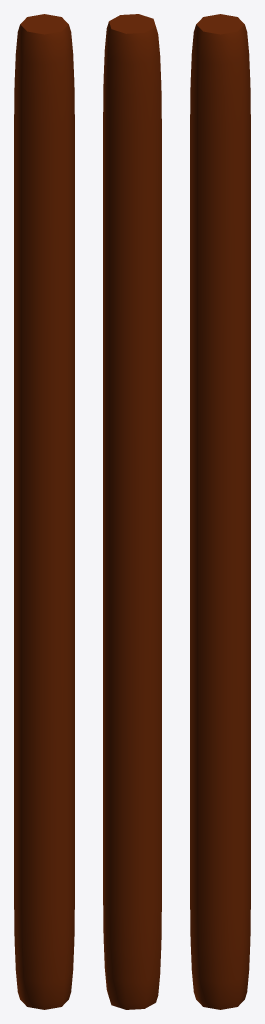
Rendered from bou.fbx.
3 renders of one model, left to right at view 1: azimuth 90°, elevation 25°; view 2: azimuth 210°, elevation 25°; view 3: azimuth 270°, elevation 25°, orthographic.
Visible parts, largest first — view 1: obj2; view 2: obj2; view 3: obj2.
Boxes of the visible parts, x1,y1,x2,y2 form: obj2: (14,14,74,1009); obj2: (103,14,161,1009); obj2: (190,14,250,1009).
Bounding box in the file's own units: 5.85 × 104 × 5.85.
